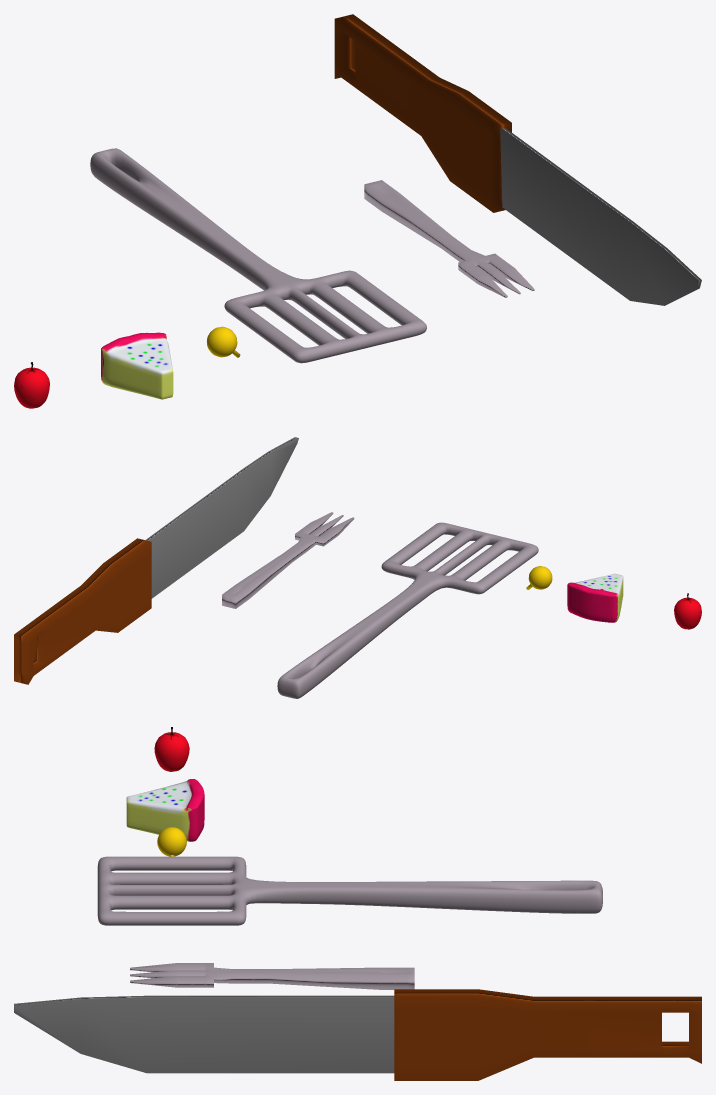
File: world_objects.glb
3 renders of one model, top to bottom at view 1: azimuth 30°, elevation 25°; view 2: azimuth 150°, elevation 25°; view 3: azimuth 270°, elevation 25°, orthographic. The views are drawn at different scales.
Parts seen in each view (by area): view 1: knife, Cube, fork, cake_piece, apple, coin_pickup; view 2: knife, Cube, fork, cake_piece, apple, coin_pickup; view 3: knife, Cube, fork, cake_piece, apple, coin_pickup.
Part boxes in pixels (x1,y1,x2,y2): knife: [334, 14, 701, 305]; Cube: [90, 148, 426, 363]; fork: [364, 180, 534, 297]; cake_piece: [101, 332, 173, 399]; apple: [14, 362, 49, 408]; coin_pickup: [206, 326, 240, 357]; knife: [14, 437, 298, 684]; Cube: [277, 522, 538, 698]; fork: [222, 512, 354, 608]; cake_piece: [567, 573, 623, 622]; apple: [674, 593, 701, 629]; coin_pickup: [526, 566, 552, 589]; knife: [14, 989, 701, 1080]; Cube: [97, 856, 602, 925]; fork: [130, 963, 414, 989]; cake_piece: [126, 779, 204, 841]; apple: [154, 727, 189, 771]; coin_pickup: [157, 827, 186, 856].
Bounding box in the file's own units: 16.22 × 2.17 × 16.36.
1 material, 1 textured.
